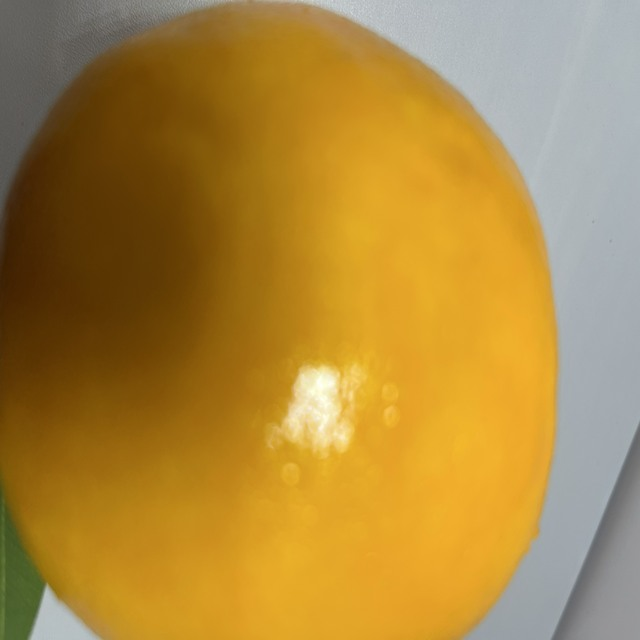Cam vang: (0, 6, 560, 640)
